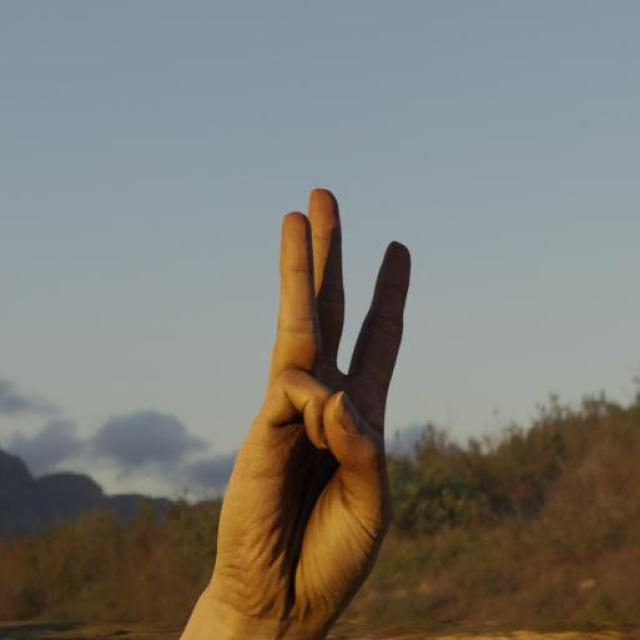W: (176, 182, 418, 640)
